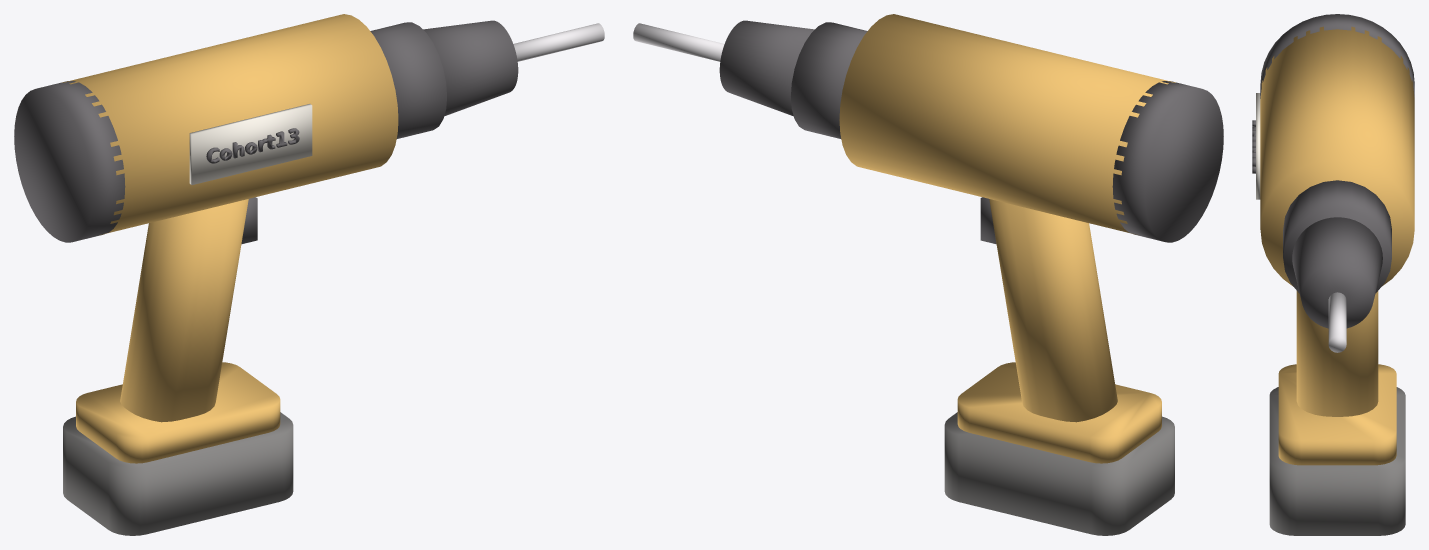
File: drill.glb
3 views of the same model, side by side, from view 1: azimuth 30°, elevation 25°; view 2: azimuth 150°, elevation 25°; view 3: azimuth 270°, elevation 25° (orthographic). The views are drawn at different scales.
Visible parts, largest first — view 1: part0, part7; view 2: part0, part7; view 3: part0, part7.
Part boxes in pixels (left/top/right/bottom): part0: left=14, top=14, right=518, bottom=535; part7: left=513, top=23, right=604, bottom=61; part0: left=719, top=14, right=1223, bottom=535; part7: left=633, top=23, right=724, bottom=61; part0: left=1252, top=14, right=1414, bottom=535; part7: left=1328, top=292, right=1346, bottom=352.
Size of the model in its own units: 1 by 0.75 by 0.2632.
2 materials, 2 textured.
